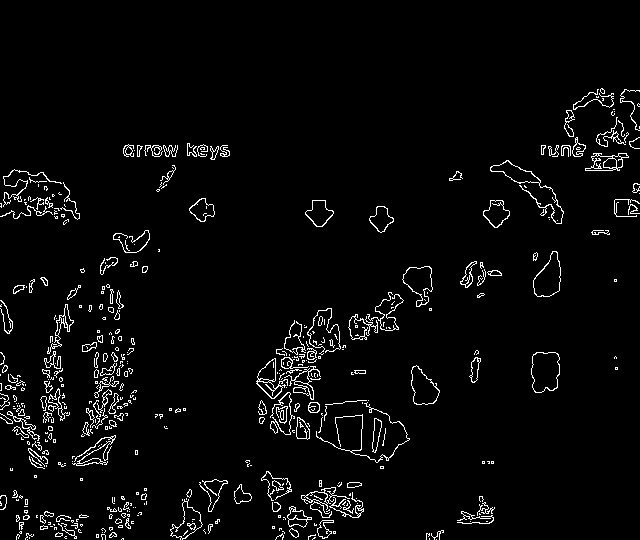down: (298, 192, 340, 235), (361, 198, 401, 241), (475, 191, 515, 233)
left: (182, 191, 223, 232)
